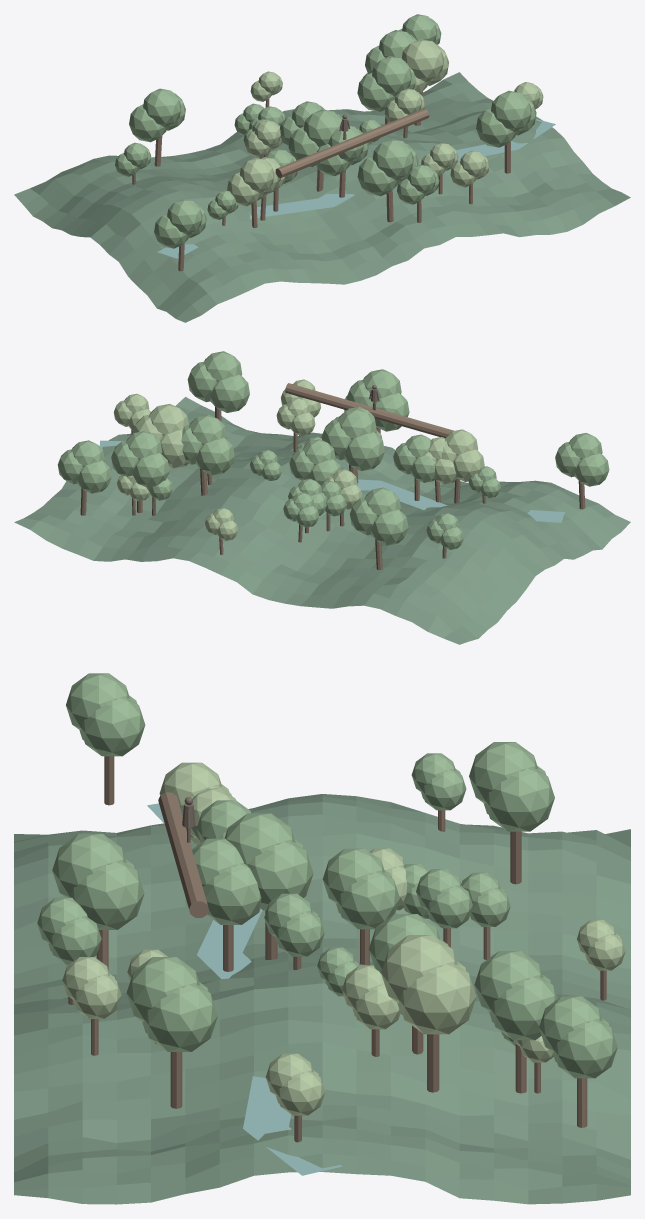
The model's file is world-01-canopy.glb.
3 renders of one model, top to bottom at view 1: azimuth 30°, elevation 25°; view 2: azimuth 150°, elevation 25°; view 3: azimuth 270°, elevation 25°, orthographic. The views are drawn at different scales.
Parts seen in each view (by area): view 1: BH_WORLD_01_Terrain.003, BH_WORLD_01_Batch_04, BH_WORLD_01_Batch_03, BH_WORLD_01_Batch_02, BH_WORLD_01_River.003; view 2: BH_WORLD_01_Terrain.003, BH_WORLD_01_Batch_04, BH_WORLD_01_Batch_03, BH_WORLD_01_Batch_02, BH_WORLD_01_River.003; view 3: BH_WORLD_01_Terrain.003, BH_WORLD_01_Batch_04, BH_WORLD_01_Batch_03, BH_WORLD_01_Batch_02, BH_WORLD_01_River.003.
Boxes of the visible parts, left/top/right/bottom form: BH_WORLD_01_Terrain.003: left=14, top=72, right=630, bottom=322; BH_WORLD_01_Batch_04: left=115, top=14, right=536, bottom=248; BH_WORLD_01_Batch_03: left=227, top=39, right=543, bottom=206; BH_WORLD_01_Batch_02: left=132, top=91, right=510, bottom=271; BH_WORLD_01_River.003: left=157, top=119, right=555, bottom=258; BH_WORLD_01_Terrain.003: left=14, top=397, right=630, bottom=644; BH_WORLD_01_Batch_04: left=57, top=351, right=609, bottom=549; BH_WORLD_01_Batch_03: left=113, top=379, right=484, bottom=540; BH_WORLD_01_Batch_02: left=80, top=383, right=585, bottom=569; BH_WORLD_01_River.003: left=99, top=440, right=564, bottom=522; BH_WORLD_01_Terrain.003: left=14, top=794, right=630, bottom=1204; BH_WORLD_01_Batch_04: left=37, top=673, right=617, bottom=1078; BH_WORLD_01_Batch_03: left=62, top=762, right=625, bottom=1115; BH_WORLD_01_Batch_02: left=68, top=756, right=606, bottom=1142; BH_WORLD_01_River.003: left=147, top=803, right=342, bottom=1175.
Size of the model in its own units: 18.3 by 4.96 by 12.
